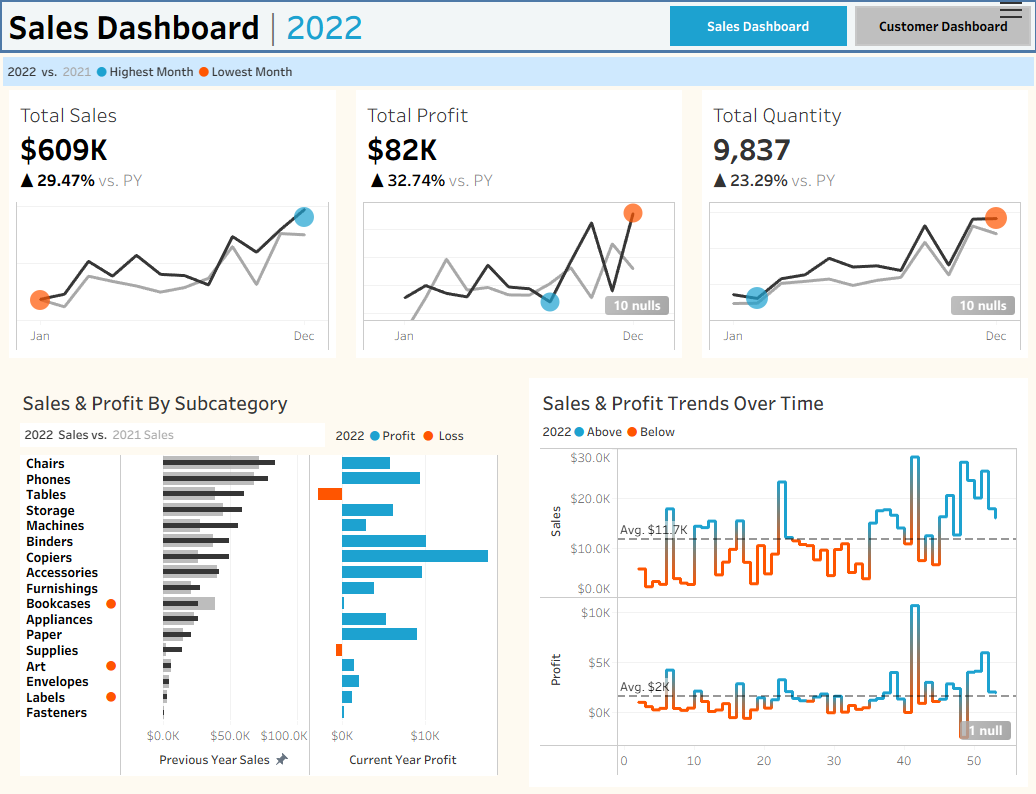

The page's visual inventory and layout, read from the dashboard file:
{"tool":"tableau","page":{"name":"Sales Dashboard","canvas":[1200,800],"ordinal":0},"visuals":[{"type":"dashboard-object","box":[1001,0,24,24]},{"type":"text","box":[4,4,664,48]},{"type":"dashboard-object","box":[668,4,185,48]},{"type":"dashboard-object","box":[853,4,184,48]},{"type":"parameter","param":"[Parameters].[Parameter 1]","box":[1056,15,129,56]},{"type":"worksheet","title":";egend KPI","mark":"Automatic","box":[1,55,1039,37]},{"type":"blank","box":[1056,71,129,41]},{"type":"worksheet","title":"Total Sales","mark":"Automatic","rows":["Calculation_1722701461094404"],"cols":["Order Date"],"box":[1,92,347,278]},{"type":"worksheet","title":"Total Profit","mark":"Line","rows":["Calculation_0523959426330639"],"cols":["Order Date"],"box":[348,92,346,278]},{"type":"worksheet","title":"Total Quantity","mark":"Automatic","rows":["Calculation_0523959412178954"],"cols":["Order Date"],"box":[694,92,346,278]},{"type":"text","box":[1056,112,129,29]},{"type":"filter","title":"Total Sales","param":"[federated.1q5vbqg0zvr5q11cg1gdk17ny4h9].[none:Category:nk]","box":[1056,141,129,52]},{"type":"filter","title":"Total Sales","param":"[federated.1q5vbqg0zvr5q11cg1gdk17ny4h9].[none:Sub-Category:nk]","box":[1056,193,129,52]},{"type":"blank","box":[1056,245,129,40]},{"type":"text","box":[1056,285,129,50]},{"type":"filter","title":"Total Sales","param":"[federated.1q5vbqg0zvr5q11cg1gdk17ny4h9].[none:Region:nk]","box":[1056,335,129,52]},{"type":"text","box":[18,387,486,34]},{"type":"text","box":[538,387,485,34]},{"type":"filter","title":"Total Sales","param":"[federated.1q5vbqg0zvr5q11cg1gdk17ny4h9].[none:State:nk]","box":[1056,387,129,52]},{"type":"worksheet","title":";egend Subcategory","mark":"Automatic","box":[18,421,313,32]},{"type":"text","box":[331,421,173,32]},{"type":"text","box":[538,421,485,25]},{"type":"filter","title":"Total Sales","param":"[federated.1q5vbqg0zvr5q11cg1gdk17ny4h9].[none:City:nk]","box":[1056,439,129,52]},{"type":"worksheet","title":"Weekly Trends","mark":"Automatic","rows":["Calculation_1722701445079040","Calculation_0523959401639939"],"cols":["Order Date"],"box":[538,446,485,336]},{"type":"worksheet","title":"Subcategory Comparison","mark":"Bar","rows":["Sub-Category","Calculation_0523959444828176"],"cols":["Current Year Sales (copy)_1722701446066177","Calculation_1722701445079040","Calculation_0523959401639939"],"box":[18,453,486,328.9]}]}

Visuals, with their boxes on the page's 1200x800 design canvas (x1, y1, x2, y2). These are canvas units, not pixel positions in the 1036x794 screenshot, which may show the page scaled, cropped or inside an application window:
dashboard-object: {"left": 1001, "top": 0, "right": 1025, "bottom": 24}
text: {"left": 4, "top": 4, "right": 668, "bottom": 52}
dashboard-object: {"left": 668, "top": 4, "right": 853, "bottom": 52}
dashboard-object: {"left": 853, "top": 4, "right": 1037, "bottom": 52}
parameter: {"left": 1056, "top": 15, "right": 1185, "bottom": 71}
";egend KPI" worksheet: {"left": 1, "top": 55, "right": 1040, "bottom": 92}
blank: {"left": 1056, "top": 71, "right": 1185, "bottom": 112}
"Total Sales" worksheet: {"left": 1, "top": 92, "right": 348, "bottom": 370}
"Total Profit" worksheet (Line marks): {"left": 348, "top": 92, "right": 694, "bottom": 370}
"Total Quantity" worksheet: {"left": 694, "top": 92, "right": 1040, "bottom": 370}
text: {"left": 1056, "top": 112, "right": 1185, "bottom": 141}
"Total Sales" filter: {"left": 1056, "top": 141, "right": 1185, "bottom": 193}
"Total Sales" filter: {"left": 1056, "top": 193, "right": 1185, "bottom": 245}
blank: {"left": 1056, "top": 245, "right": 1185, "bottom": 285}
text: {"left": 1056, "top": 285, "right": 1185, "bottom": 335}
"Total Sales" filter: {"left": 1056, "top": 335, "right": 1185, "bottom": 387}
text: {"left": 18, "top": 387, "right": 504, "bottom": 421}
text: {"left": 538, "top": 387, "right": 1023, "bottom": 421}
"Total Sales" filter: {"left": 1056, "top": 387, "right": 1185, "bottom": 439}
";egend Subcategory" worksheet: {"left": 18, "top": 421, "right": 331, "bottom": 453}
text: {"left": 331, "top": 421, "right": 504, "bottom": 453}
text: {"left": 538, "top": 421, "right": 1023, "bottom": 446}
"Total Sales" filter: {"left": 1056, "top": 439, "right": 1185, "bottom": 491}
"Weekly Trends" worksheet: {"left": 538, "top": 446, "right": 1023, "bottom": 782}
"Subcategory Comparison" worksheet (Bar marks): {"left": 18, "top": 453, "right": 504, "bottom": 782}
